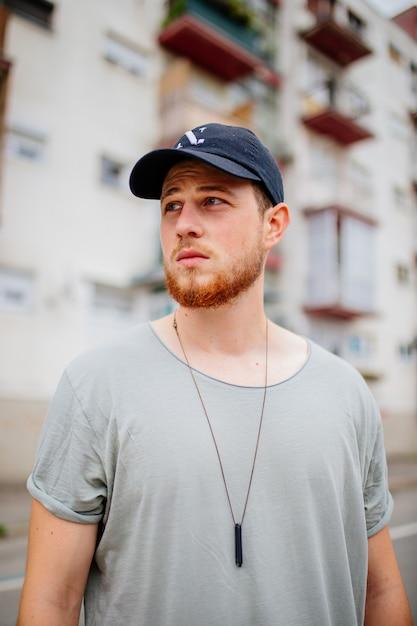cap: (128, 110, 305, 243)
